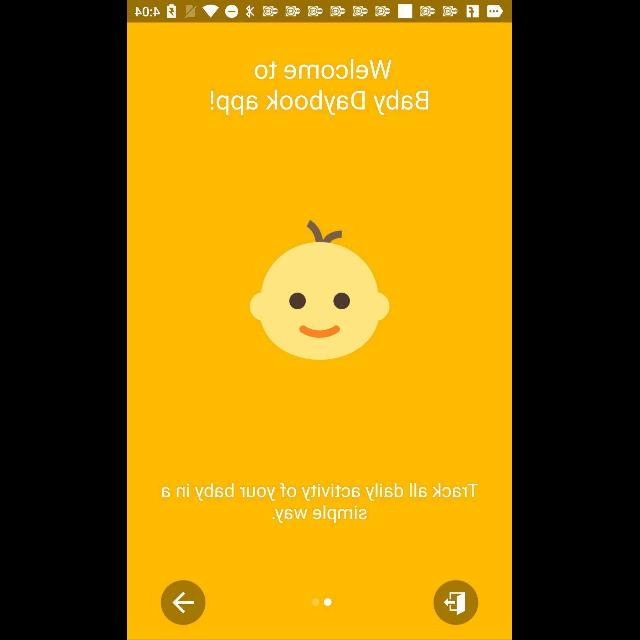icon: (434, 580, 478, 626), (162, 580, 206, 626)
image: (250, 220, 390, 360)
pageindicator: (312, 598, 332, 606)
text: (162, 482, 480, 524), (210, 58, 430, 115)
uppertaskbar: (128, 1, 512, 23)
